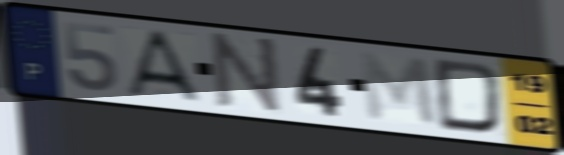4: (292, 45, 347, 119)
5: (60, 19, 119, 93)
A: (123, 27, 206, 105)
D: (432, 57, 506, 137)
M: (357, 49, 442, 130)
N: (211, 31, 284, 118)
